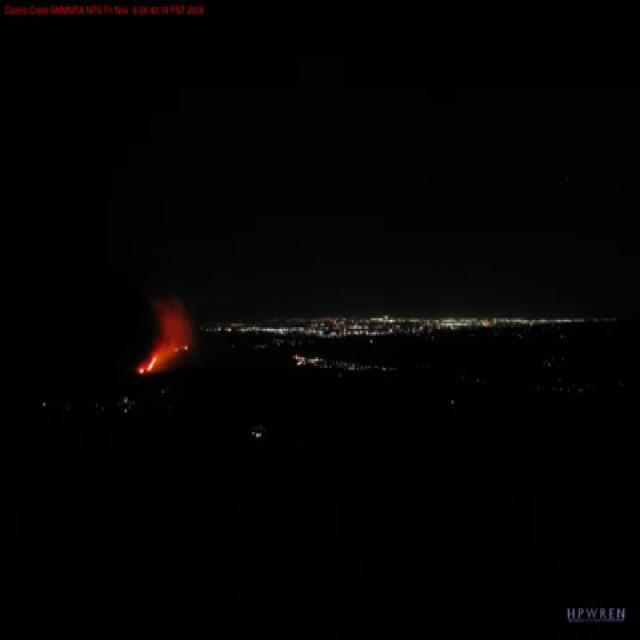Fire: (130, 348, 167, 382)
